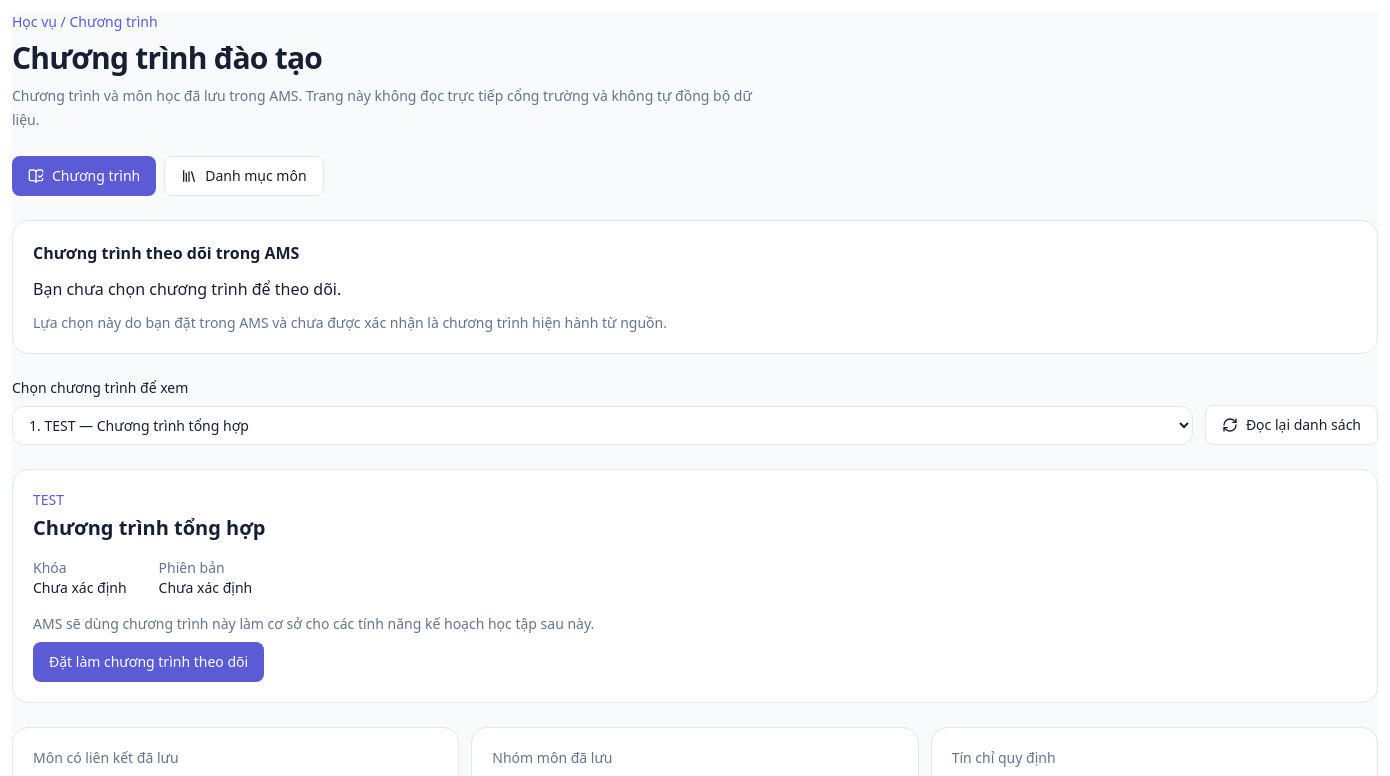
it: Persisted curriculum browser › lets users choose between curricula without changing their profile
Select "2. TEST — Chương trình thứ hai" in the dropdown labelled "Chọn chương trình để xem" at (602, 426), box x1=12 y1=406 x2=1193 y2=445
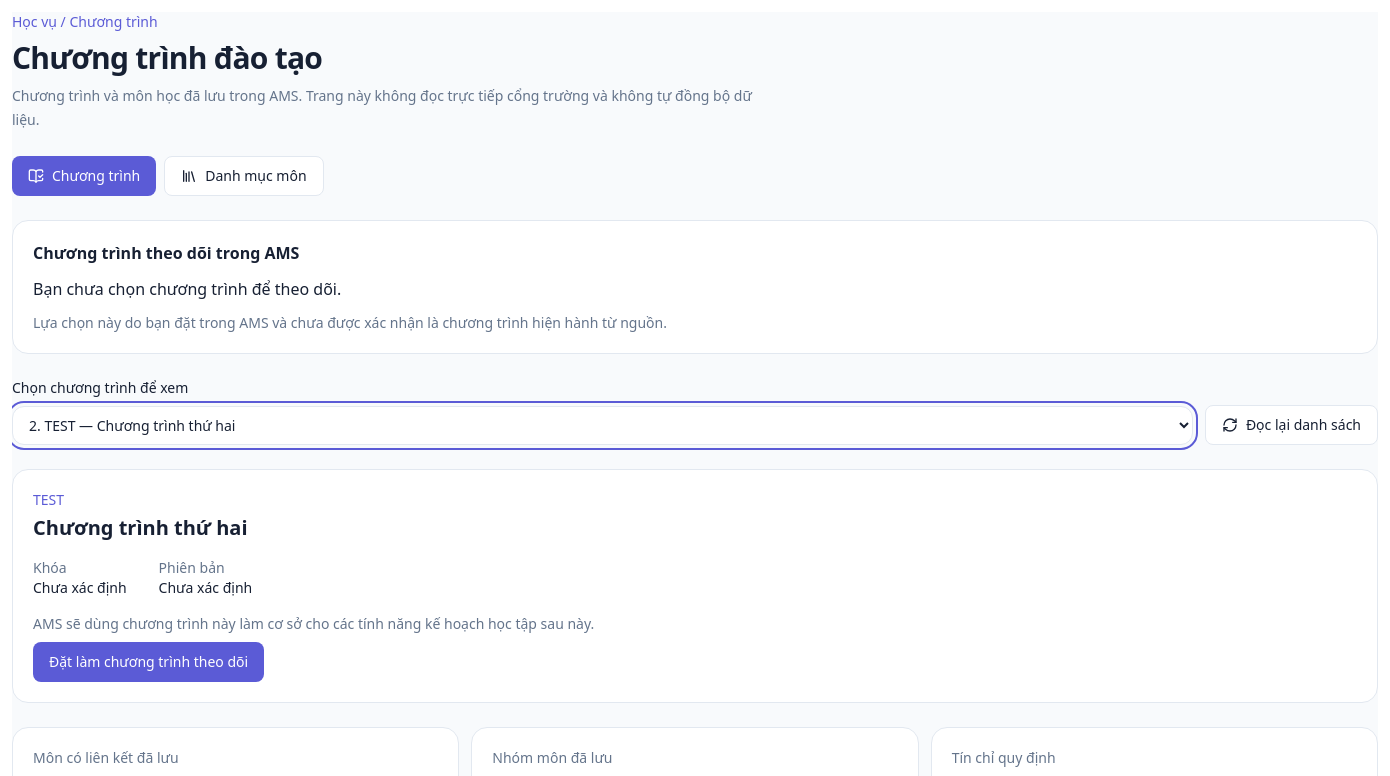
Check: the heading "Chương trình thứ hai" is shown, box x1=33 y1=514 x2=248 y2=541
